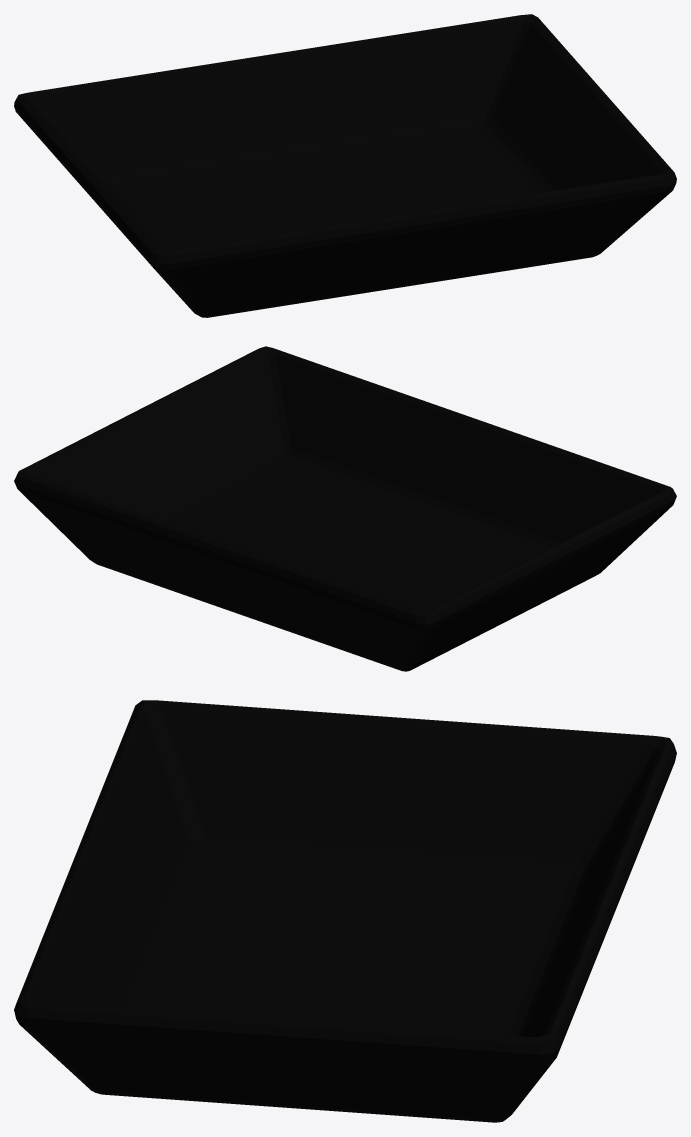
The model's file is tray.fbx.
3 renders of one model, top to bottom at view 1: azimuth 30°, elevation 25°; view 2: azimuth 150°, elevation 25°; view 3: azimuth 270°, elevation 25°, orthographic. The views are drawn at different scales.
Parts seen in each view (by area): view 1: Plane.001; view 2: Plane.001; view 3: Plane.001.
Part boxes in pixels (left/top/right/bottom): Plane.001: left=14, top=14, right=676, bottom=317; Plane.001: left=14, top=346, right=676, bottom=671; Plane.001: left=14, top=700, right=676, bottom=1122.
Bounding box in the file's own units: 3.78 × 0.6381 × 3.05.
